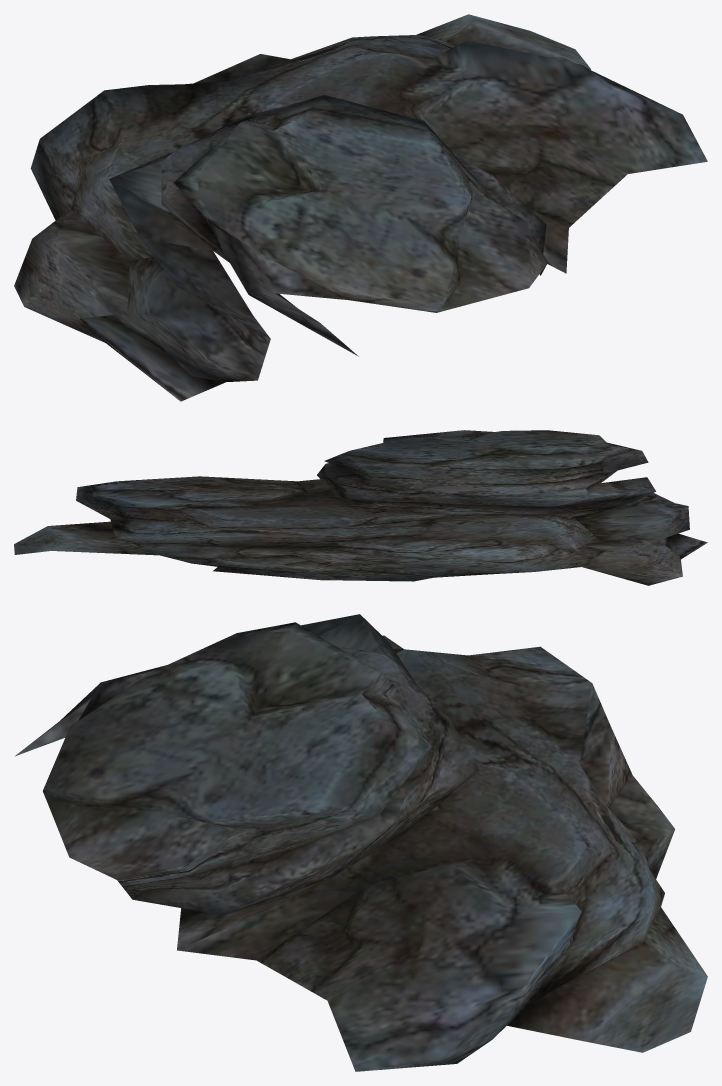
Rendered from S_Rock_Yellow034_H14.FBX.
3 views of the same model, one above another, from view 1: azimuth 30°, elevation 25°; view 2: azimuth 150°, elevation 25°; view 3: azimuth 270°, elevation 25° (orthographic). The views are drawn at different scales.
Parts seen in each view (by area): view 1: S_Rock_Yellow034_H14; view 2: S_Rock_Yellow034_H14; view 3: S_Rock_Yellow034_H14.
Part boxes in pixels (x1,y1,x2,y2): S_Rock_Yellow034_H14: (14,14,707,401); S_Rock_Yellow034_H14: (14,430,707,585); S_Rock_Yellow034_H14: (14,614,707,1071).
Bounding box in the file's own units: 1476 × 1136 × 286.
1 material, 1 textured.
